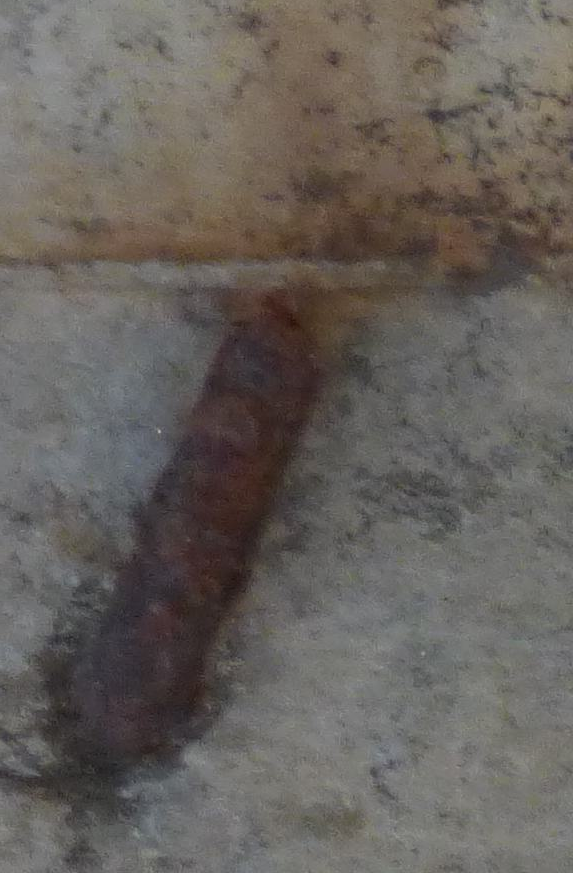Exposed reinforcement: (95, 296, 324, 728)
